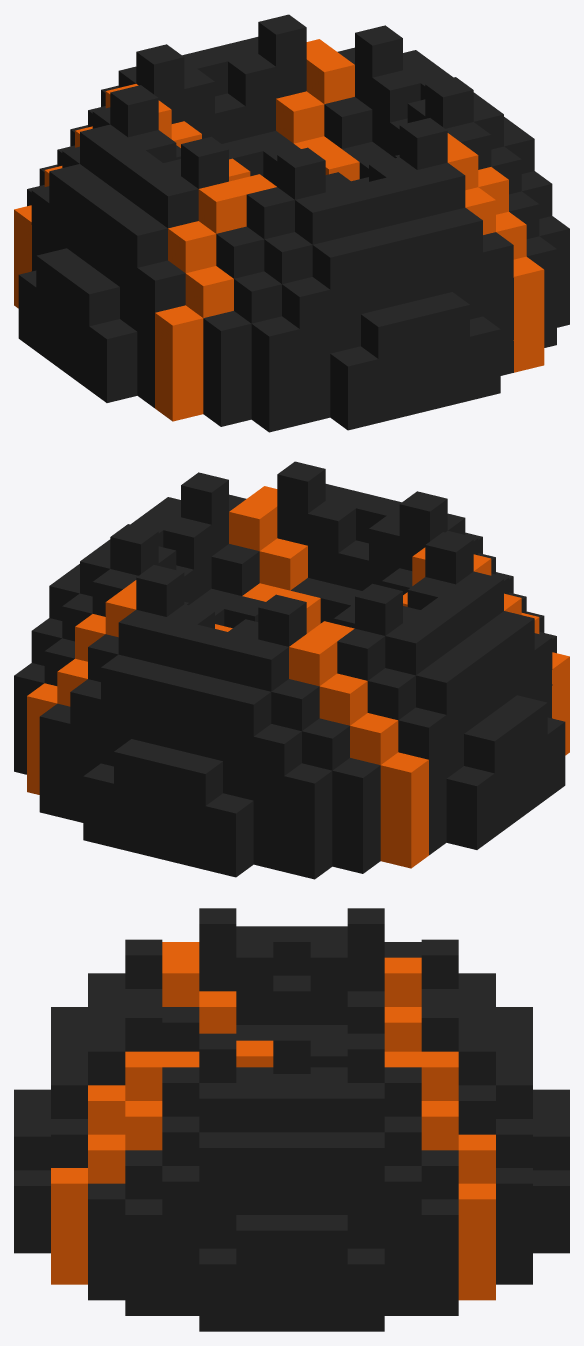
The model's file is LavaGeyser.dae.
3 renders of one model, top to bottom at view 1: azimuth 30°, elevation 25°; view 2: azimuth 150°, elevation 25°; view 3: azimuth 270°, elevation 25°, orthographic. The views are drawn at different scales.
Parts seen in each view (by area): view 1: lavageyser.merged; view 2: lavageyser.merged; view 3: lavageyser.merged.
Boxes of the visible parts, x1=… form: lavageyser.merged: x1=14, y1=14, x2=569, y2=432; lavageyser.merged: x1=14, y1=461, x2=569, y2=879; lavageyser.merged: x1=14, y1=908, x2=569, y2=1331.
Size of the model in its own units: 1.5 by 0.7 by 1.5.
1 material, 1 textured.
